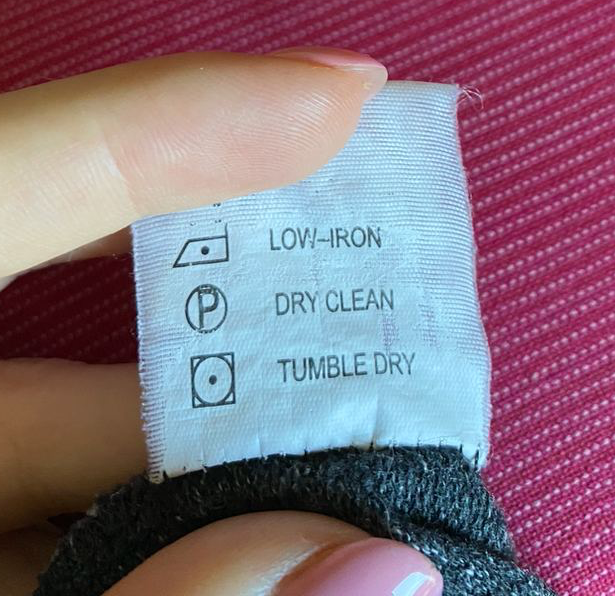dry_clean_tetrachloroethylene_pce_only: (178, 277, 236, 337)
ironing_at_low_temp: (170, 214, 237, 274)
tumble_drying_low_temps: (186, 348, 241, 413)
